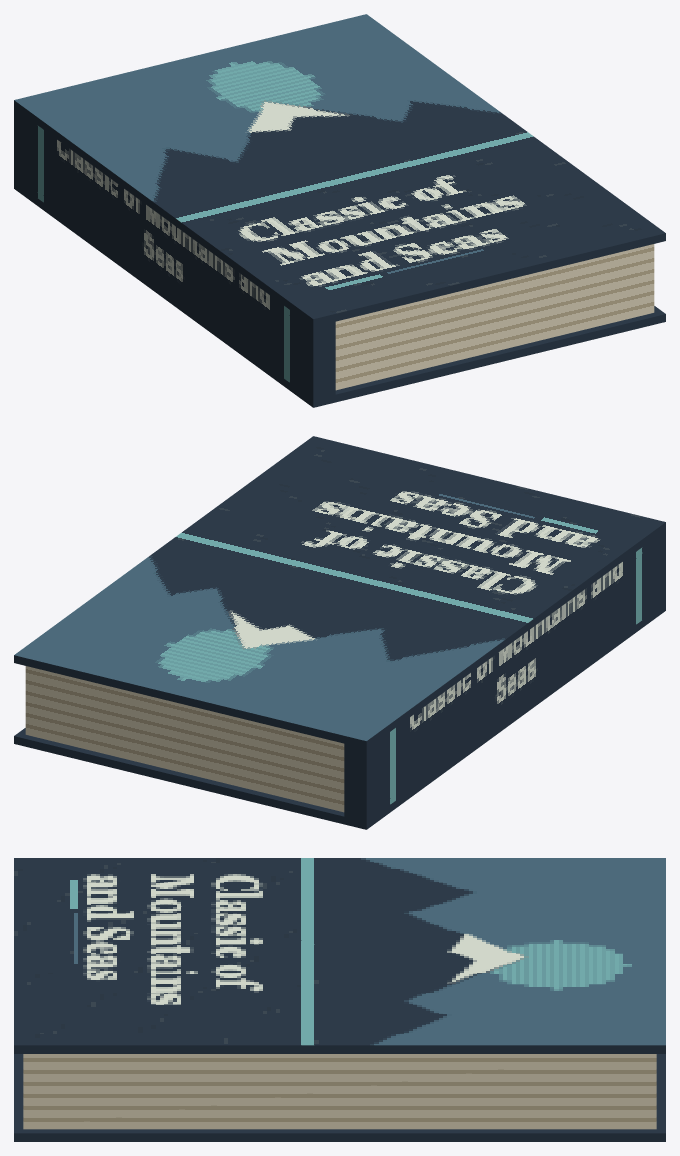
Rendered from holybook_chinese.glb.
The picture shows the model from 3 angles, top to bottom: view 1: azimuth 30°, elevation 25°; view 2: azimuth 150°, elevation 25°; view 3: azimuth 270°, elevation 25°; orthographic projection. The views are drawn at different scales.
Parts seen in each view (by area): view 1: block_front cover, block_spine, block_page block, block_back cover; view 2: block_front cover, block_spine, block_page block, block_back cover; view 3: block_front cover, block_page block, block_back cover.
Part boxes in pixels (x1,y1,x2,y2): block_front cover: (14, 14, 665, 326); block_spine: (14, 108, 335, 399); block_page block: (335, 244, 654, 390); block_back cover: (14, 181, 665, 407); block_front cover: (14, 436, 665, 748); block_spine: (344, 530, 665, 821); block_page block: (25, 666, 344, 812); block_back cover: (14, 603, 665, 829); block_front cover: (14, 858, 665, 1053); block_page block: (23, 1054, 656, 1129); block_back cover: (14, 1054, 665, 1141).
Size of the model in its own units: 0.1414 by 0.034 by 0.208.
Materials: 1 (1 with a texture image).
